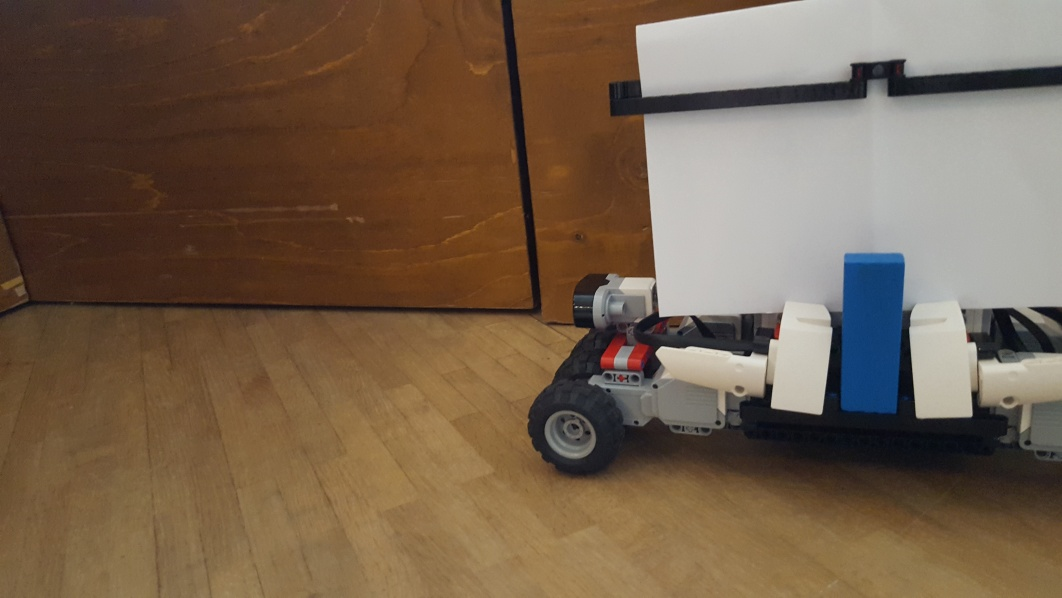car: (525, 1, 1062, 480)
